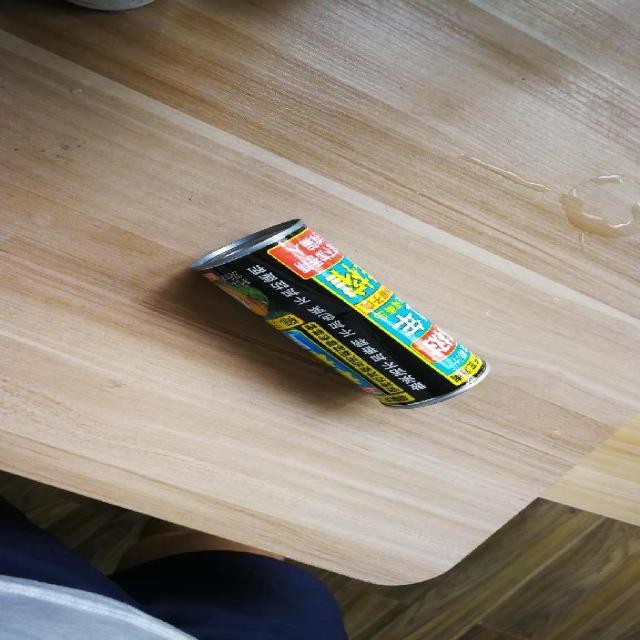-Recyclables - can-: (186, 217, 495, 412)
